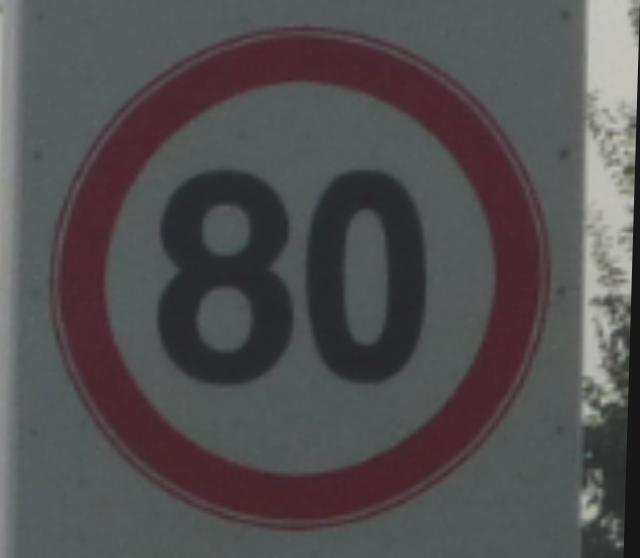limit80: (30, 12, 573, 538)
